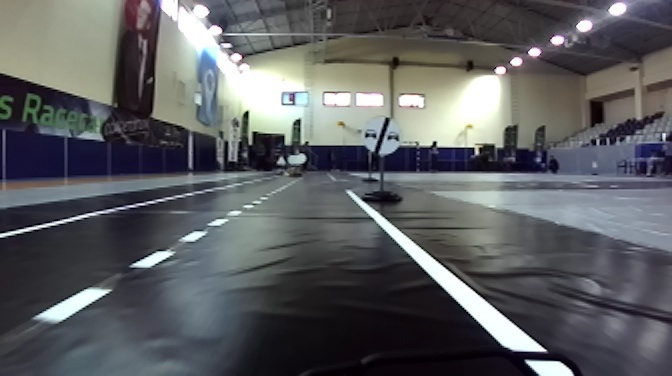sollama_serbest: (361, 118, 399, 155)
